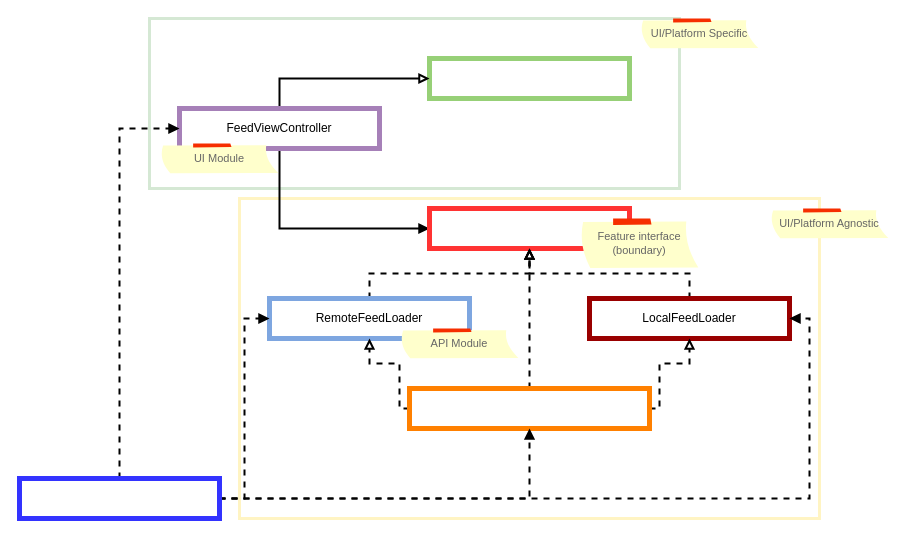
Image size: 907x538. Some labels were removed from this diagram. Each missing label, with the centre of its shape:
<FeedLoader>: [529,228]
Feed Assembler/Builder/Factory: [119,498]
RemoteWithLocalFallbackFeedLoader: [529,408]
UIViewController: [529,78]
